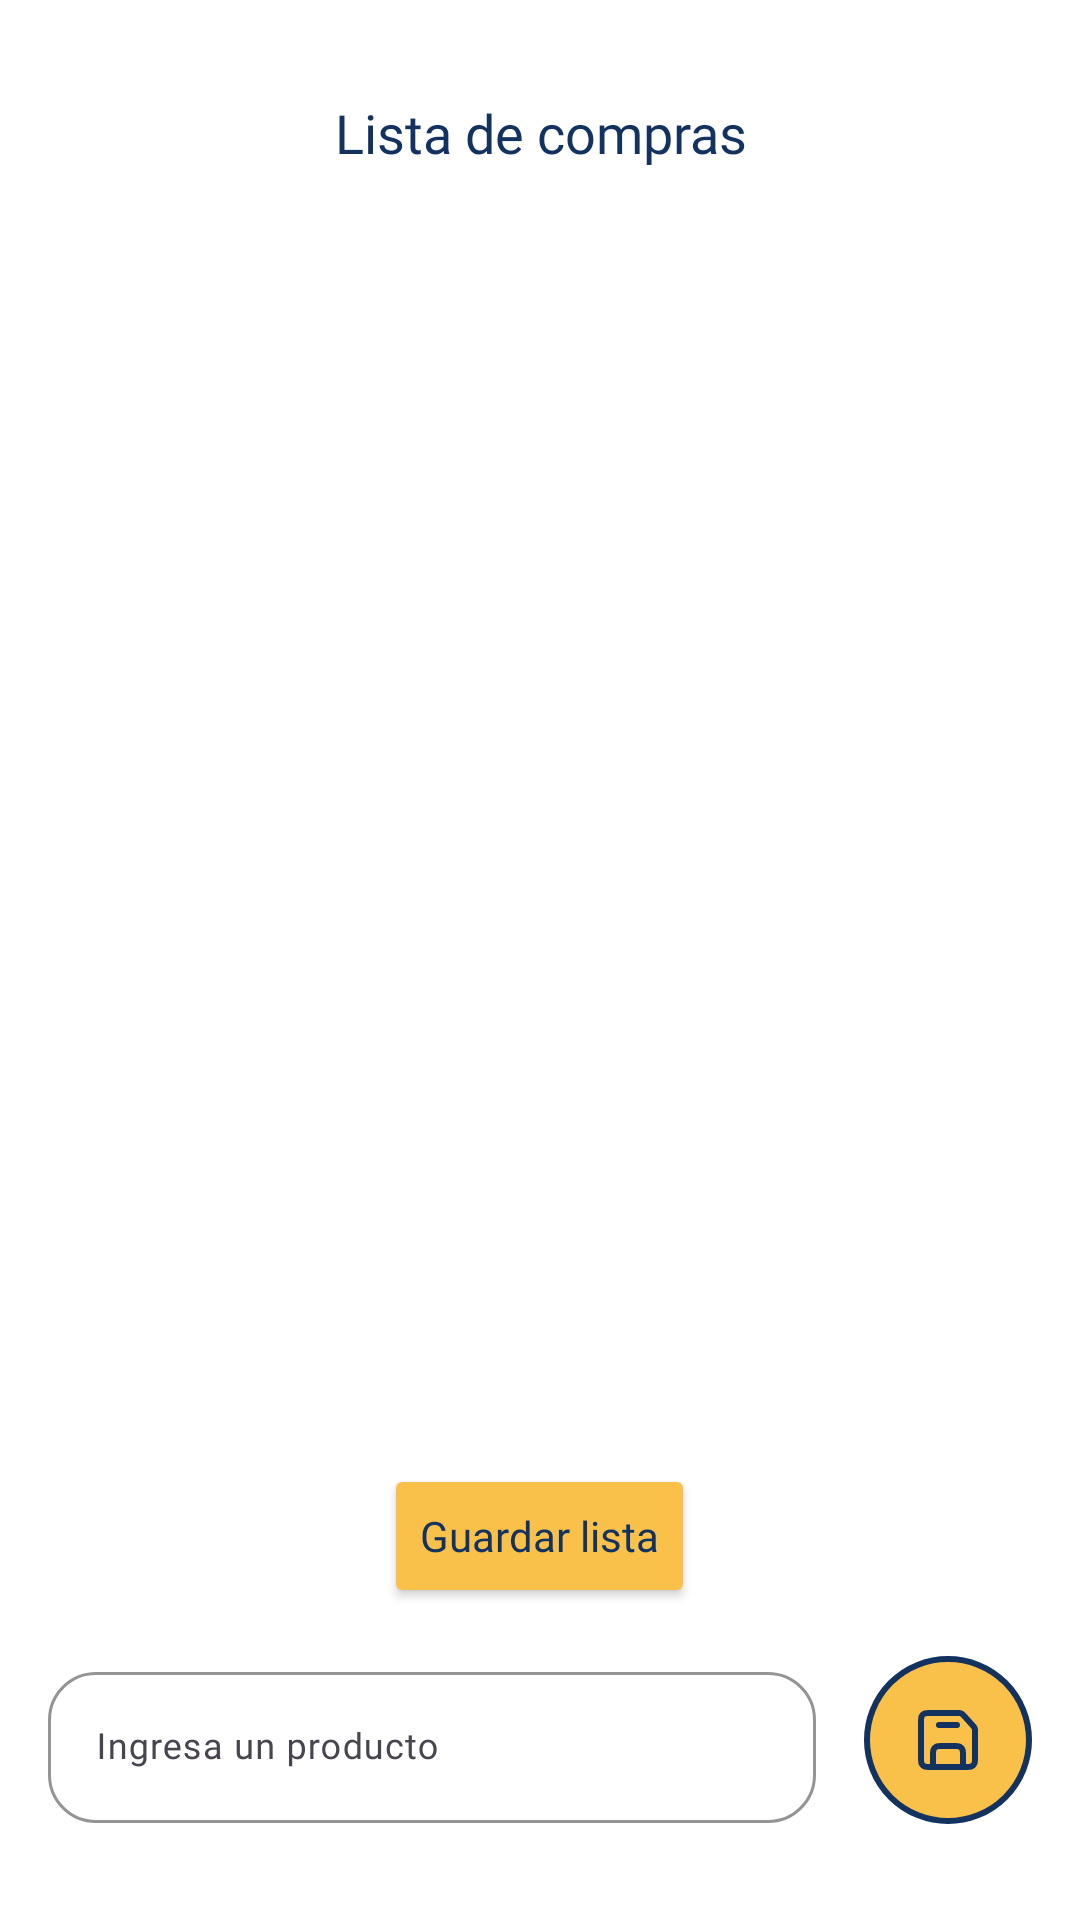

Point at icon controls on the screen. Image size 1080w x 1920h, points as (x=x, y=y).
guardar: (x=948, y=1740)
